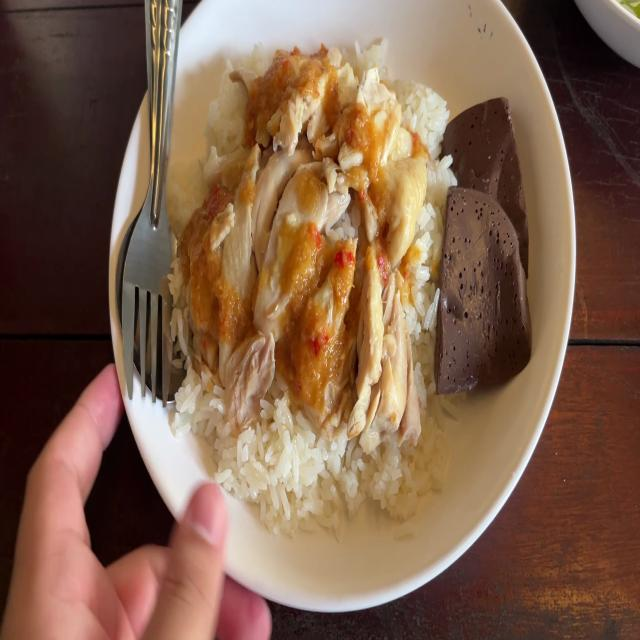boiled_chicken: (179, 51, 410, 409)
boiled_chicken_blood_jelly: (438, 186, 530, 392), (441, 97, 534, 253)
chicken_rice: (175, 32, 546, 538)
